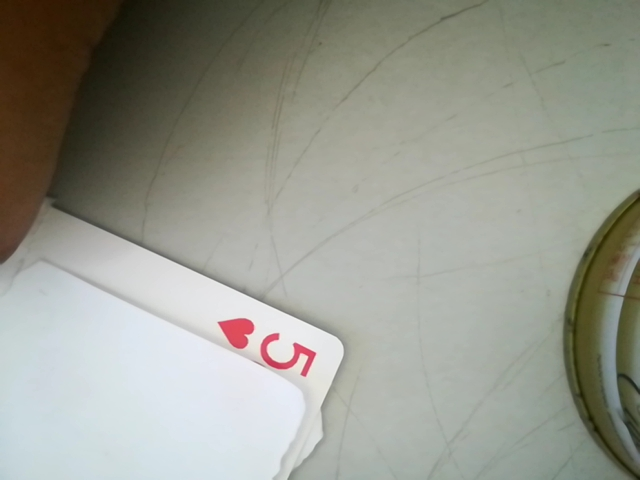hx 5: (212, 311, 330, 384)
